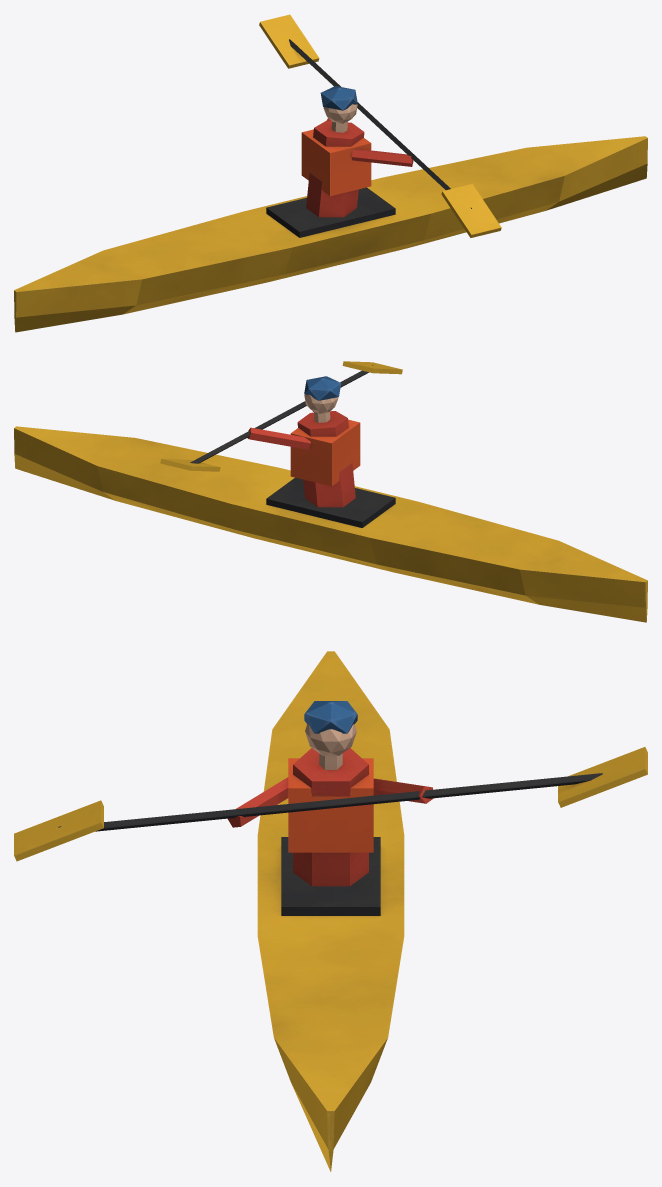
The model's file is kajak_tex.glb.
The picture shows the model from 3 angles, top to bottom: view 1: azimuth 30°, elevation 25°; view 2: azimuth 150°, elevation 25°; view 3: azimuth 270°, elevation 25°; orthographic projection. The views are drawn at different scales.
Parts seen in each view (by area): view 1: kajak; view 2: kajak; view 3: kajak.
Part boxes in pixels (box(x1,y1,x2,y2)): kajak: box(14, 14, 647, 332); kajak: box(14, 361, 647, 622); kajak: box(14, 651, 647, 1171).
Bounding box in the file's own units: 4.6 × 1.23 × 2.68.
Materials: 6 (6 with a texture image).
